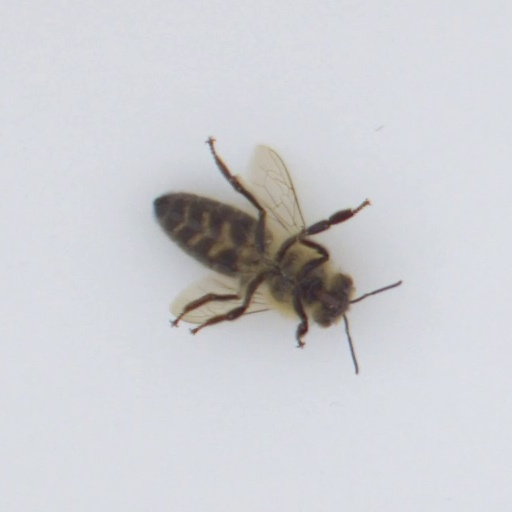Bee: (133, 175, 368, 334)
